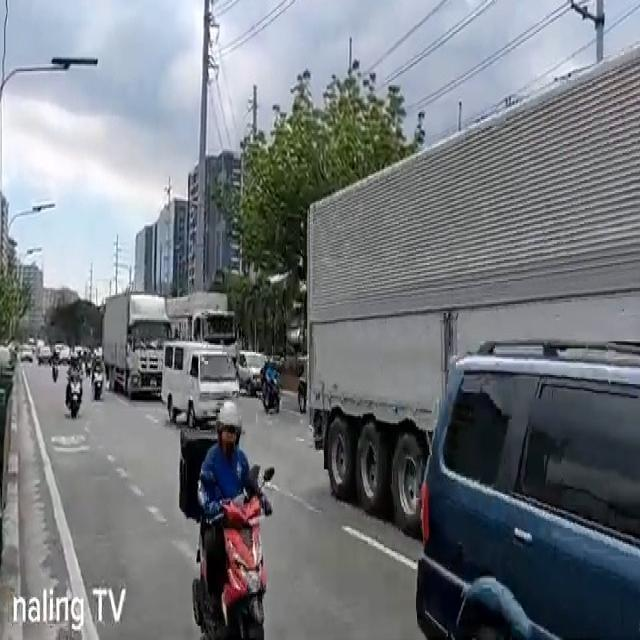car: (411, 334, 640, 640)
motorcycle: (177, 396, 272, 640), (262, 354, 282, 416), (66, 352, 84, 420)
truck: (303, 41, 640, 537), (102, 293, 172, 400), (170, 293, 238, 372)
